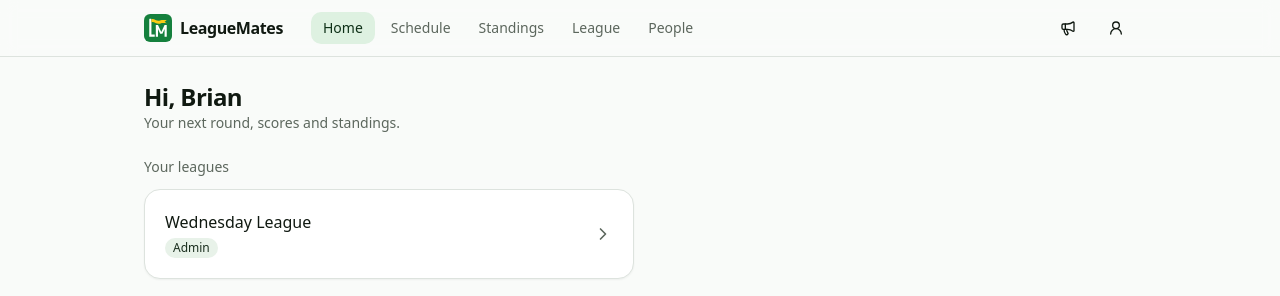
navigation › has no Account tab; account is in the profile menu
Expected: the heading "Hi, Brian" is shown, [144,80,242,113]
Expected: the link "Account" is not shown
Step 1. Click the button named "Account menu" → (1116, 28), box [1096,8,1136,48]
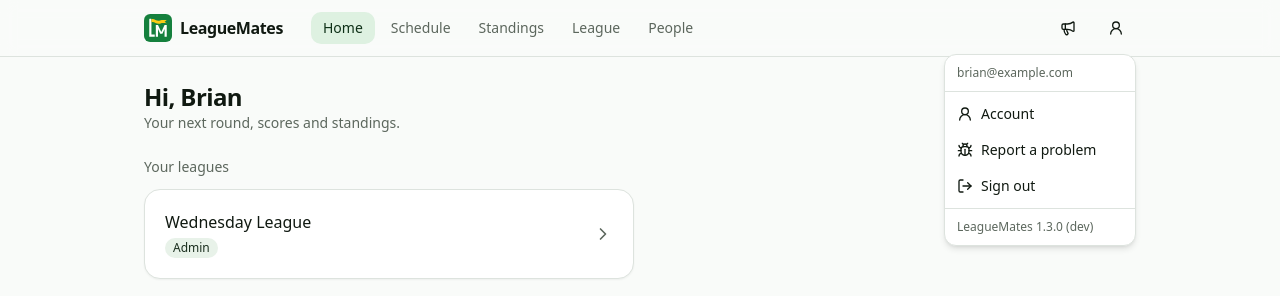
Now the menu item "Account" is shown, box [957,104,1034,123]
